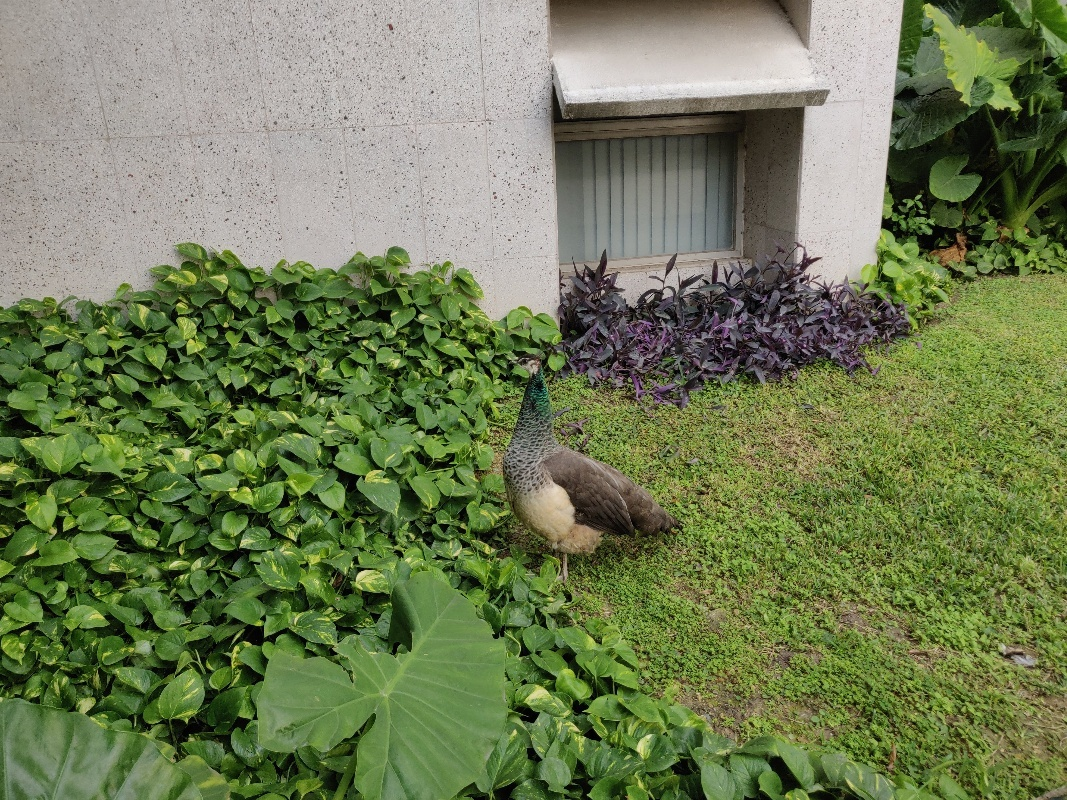pavoreal: (507, 353, 657, 566)
